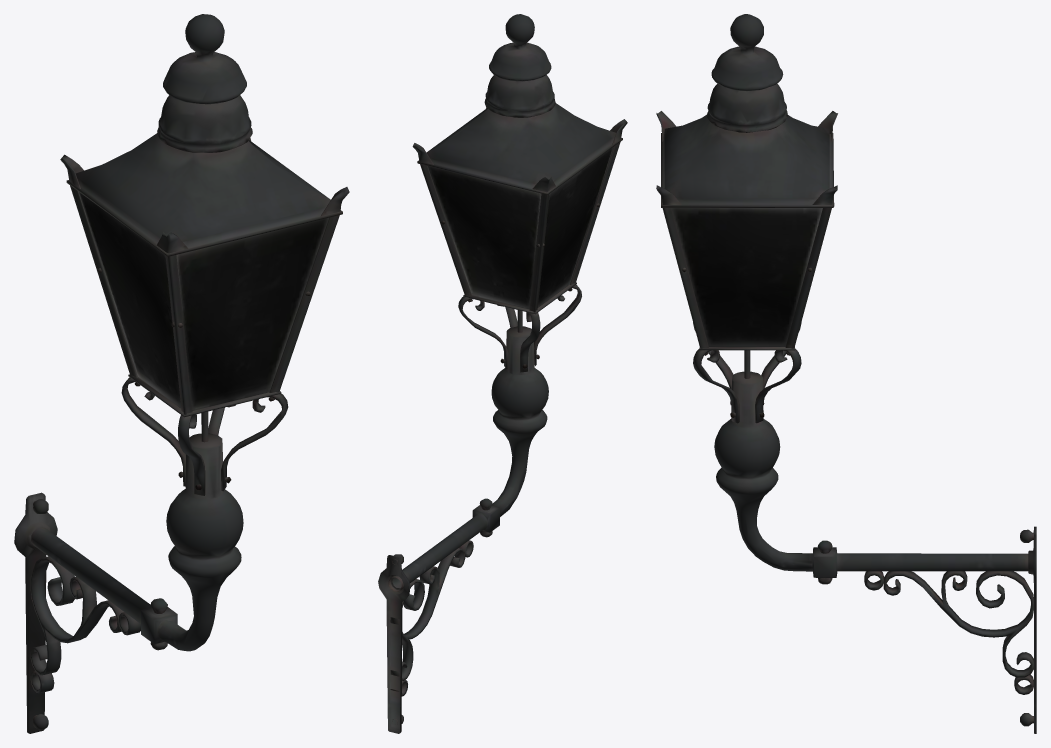
Rendered from park-lamp.glb.
3 views of the same model, side by side, from view 1: azimuth 30°, elevation 25°; view 2: azimuth 150°, elevation 25°; view 3: azimuth 270°, elevation 25° (orthographic). The views are drawn at different scales.
Parts seen in each view (by area): view 1: street_lamp_02; view 2: street_lamp_02; view 3: street_lamp_02.
Part boxes in pixels (x1,y1,x2,y2): street_lamp_02: [14, 14, 349, 733]; street_lamp_02: [378, 14, 627, 733]; street_lamp_02: [656, 14, 1036, 733].
Bounding box in the file's own units: 0.3848 × 1.67 × 0.8063.
Materials: 2 (2 with a texture image).
